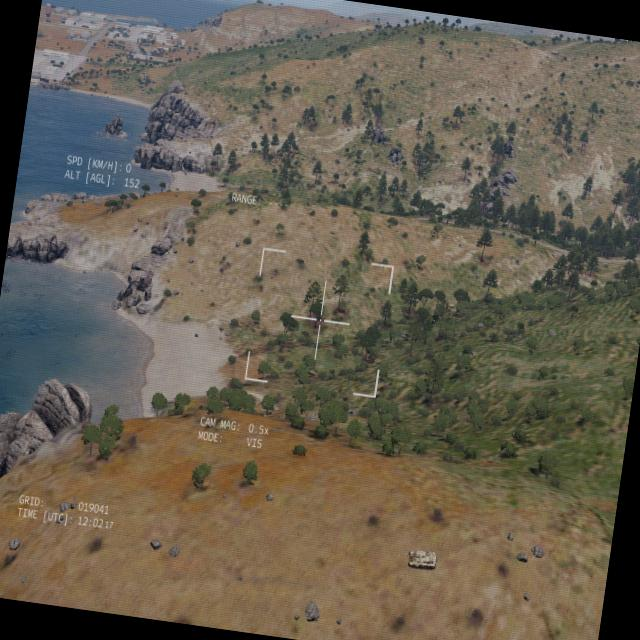tank: (398, 545, 438, 573)
